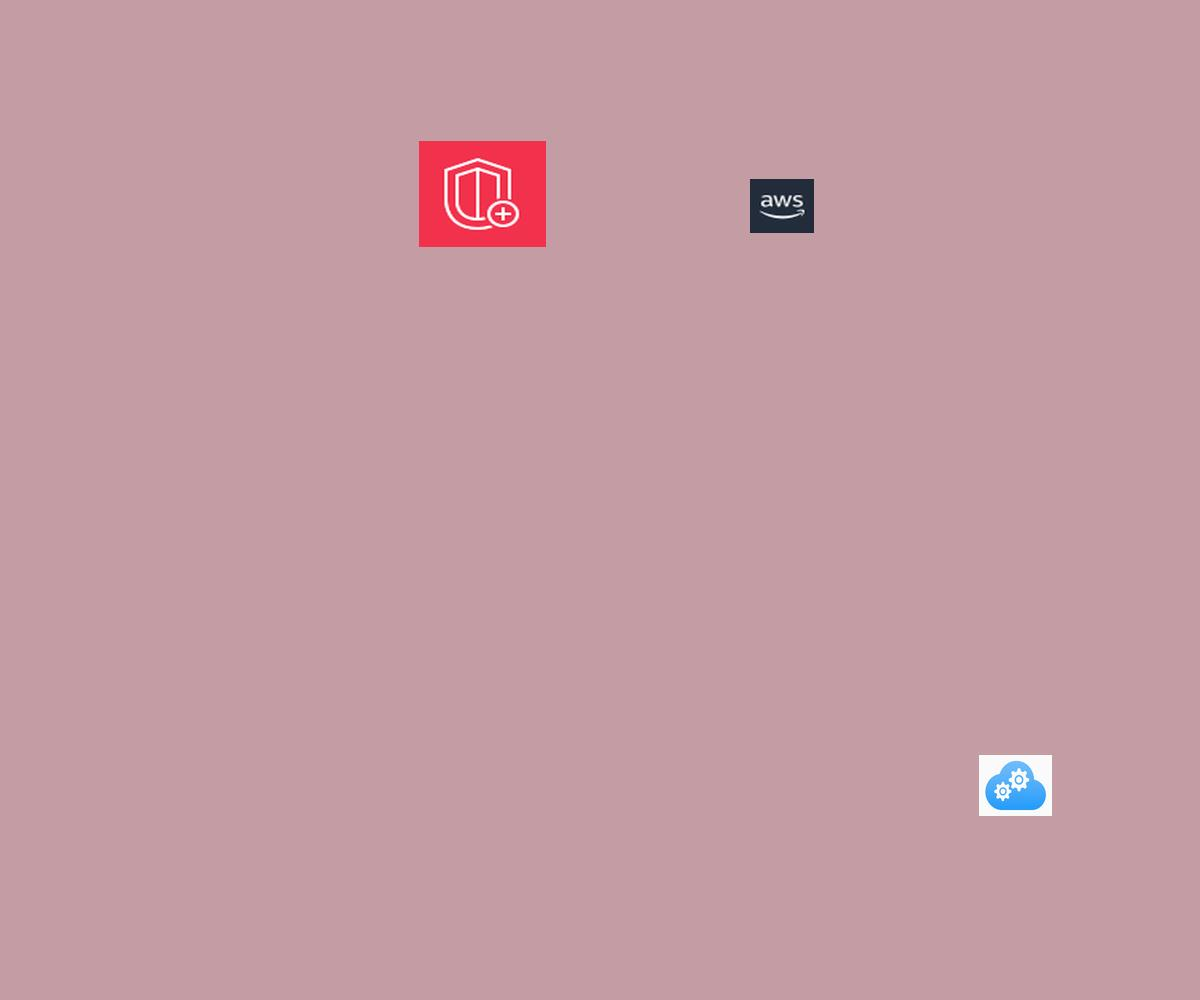AWS-Cloud-logo: (750, 179, 814, 233)
AWS-Shield: (419, 141, 546, 247)
Azure_cloud_services: (979, 755, 1052, 816)
